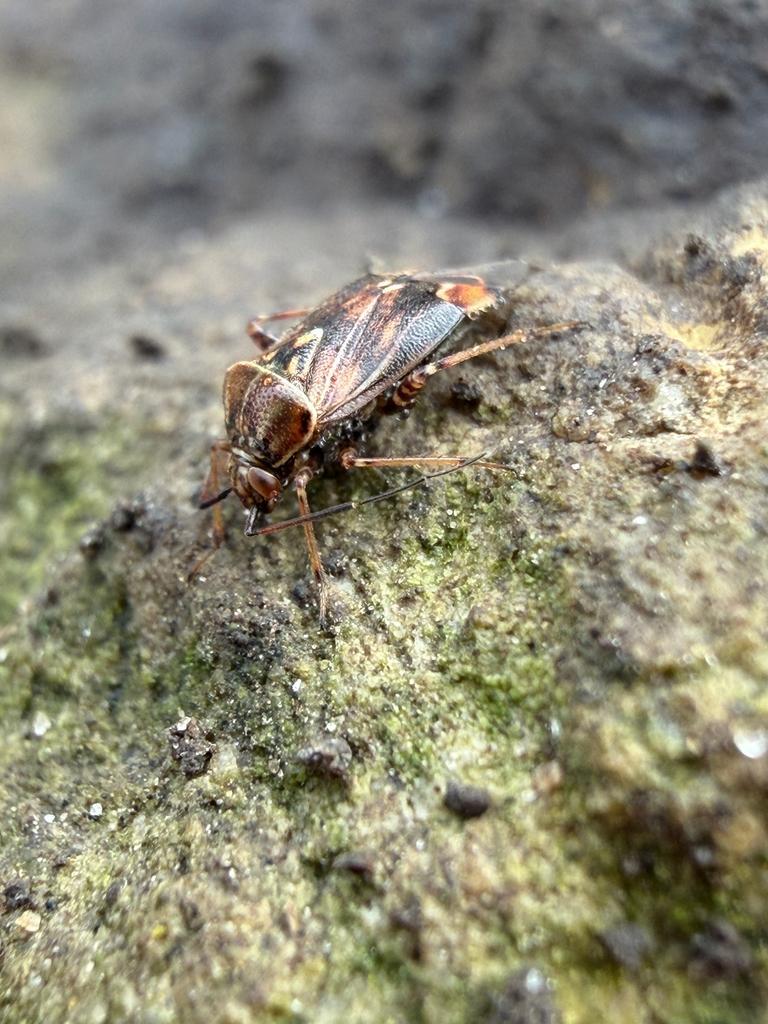plant_bugs: (158, 209, 615, 608)
